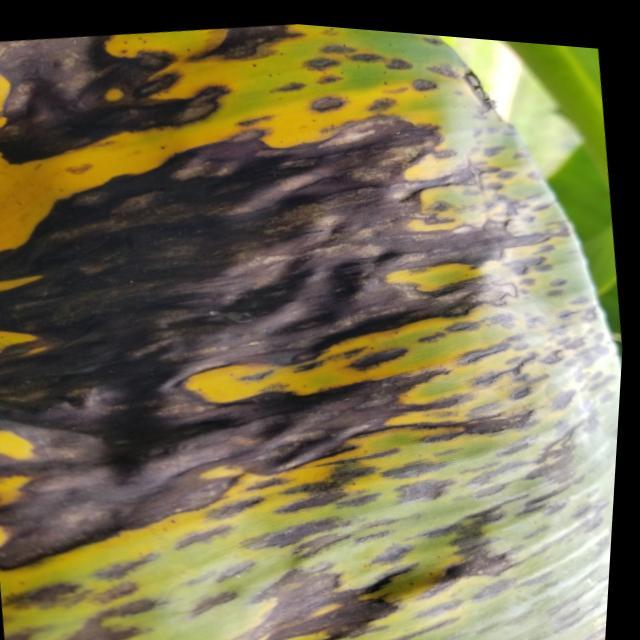Early_rust: (0, 19, 629, 640)
